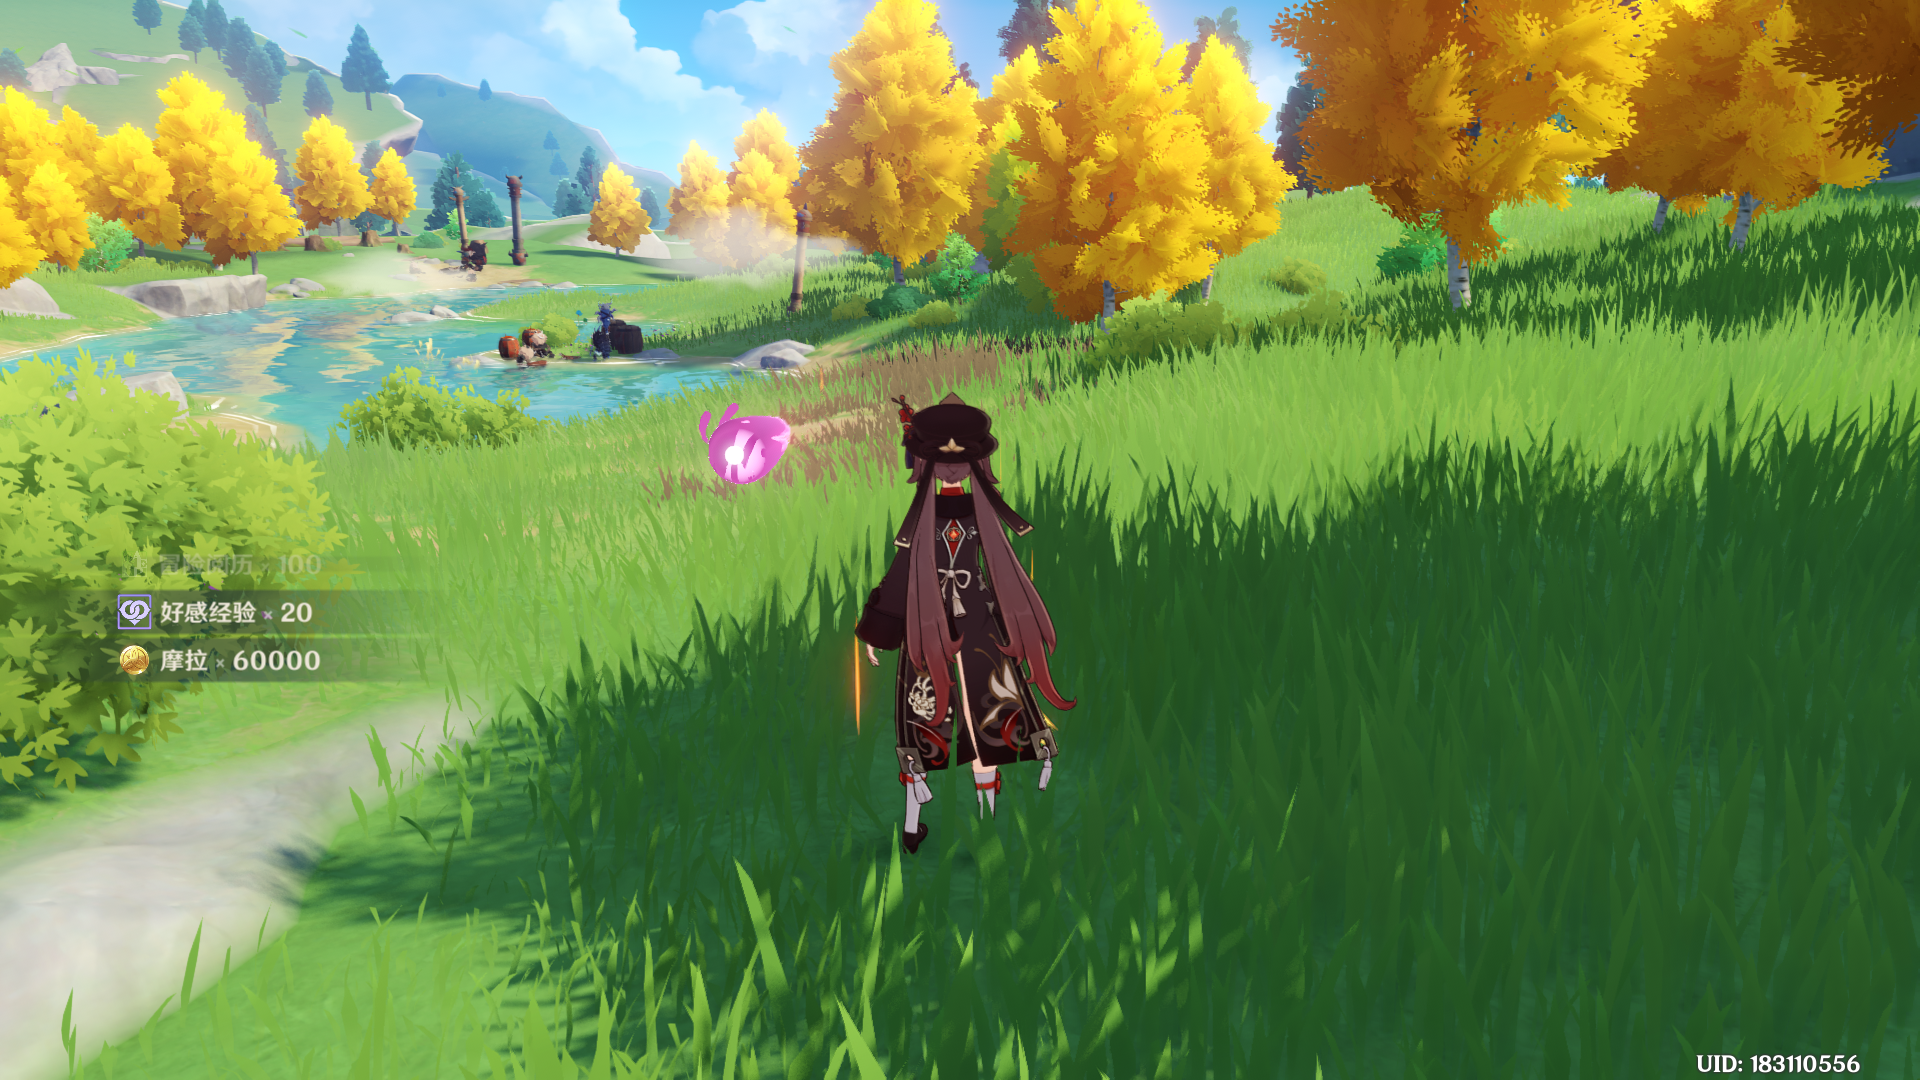character: (811, 342, 1156, 899)
